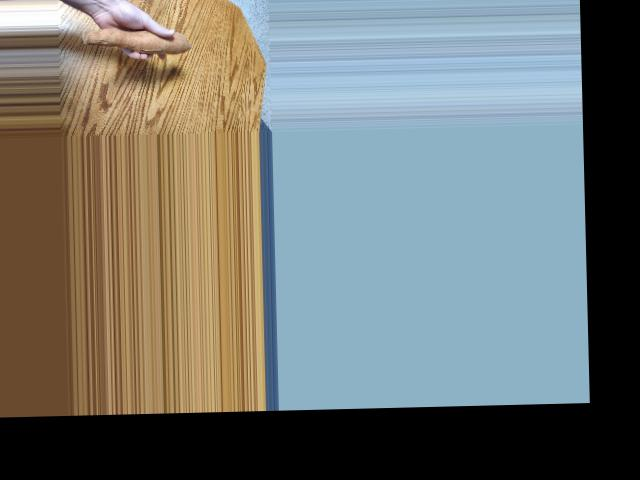sweet_potato: (79, 20, 197, 56)
